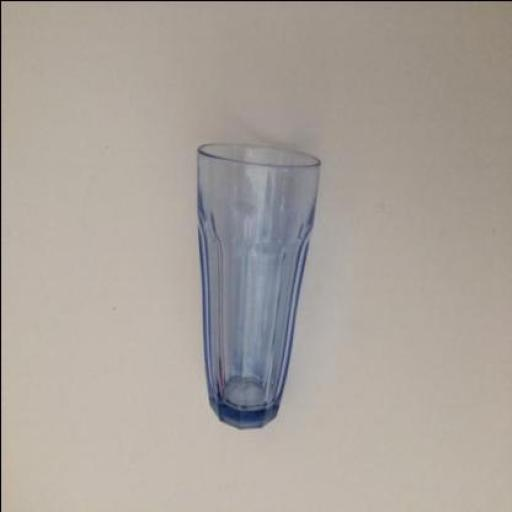glass: (197, 142, 317, 430)
